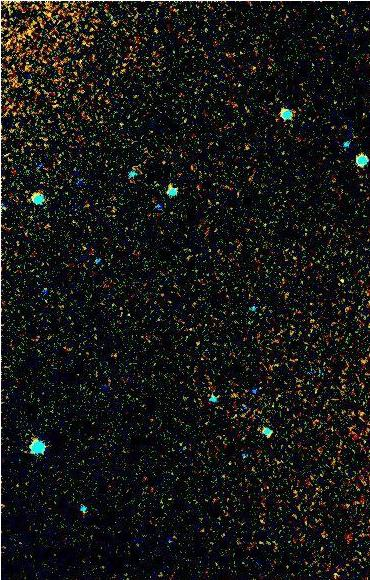star: (324, 266, 354, 296)
